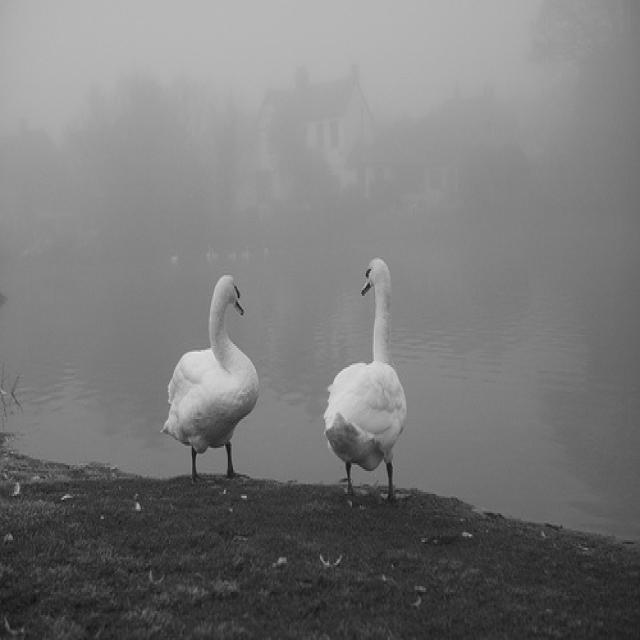bird: (159, 271, 261, 488), (324, 258, 408, 510)
